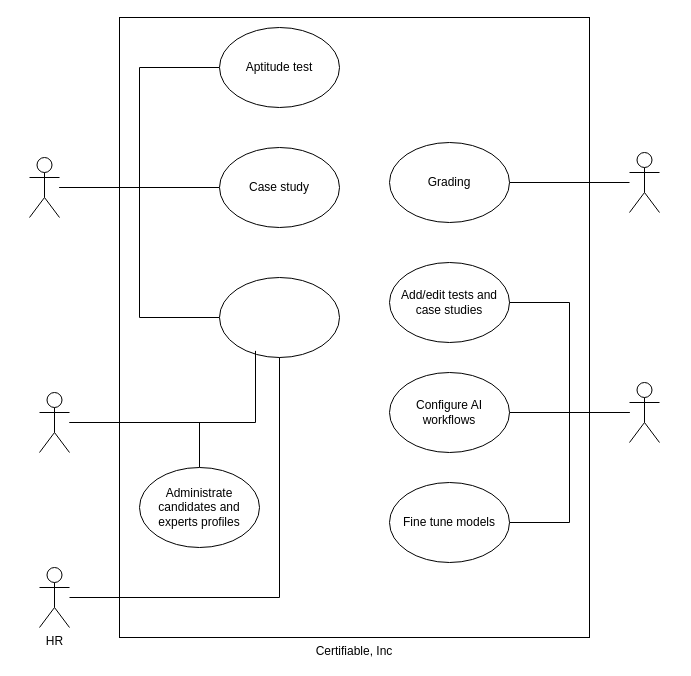
This 691x676 diagram has some shape labels left out. The shapes that lost their labels are listed below. From the top down, each one's centre as x and y in pixels, then its label:
At [44,187]: "Candidate".
At [644,182]: "Experts".
At [279,317]: "Results and complaints".
At [54,422]: "Administrator".
At [644,412]: "AI enginerr".
